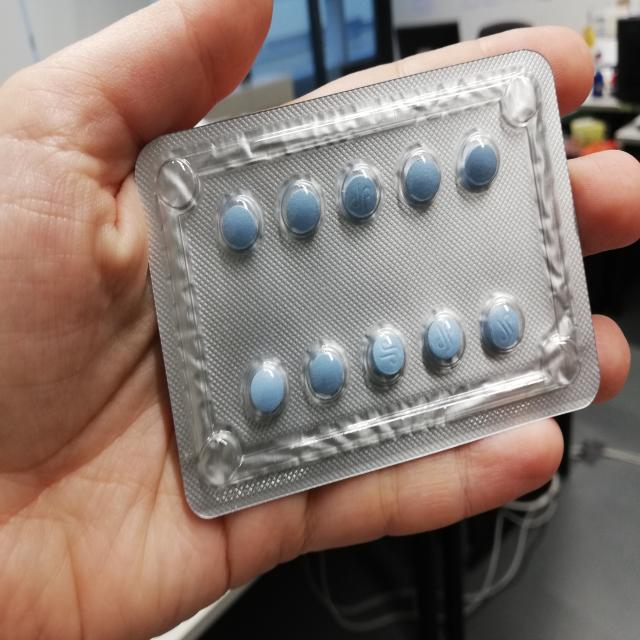Pill: (300, 333, 357, 411), (453, 122, 501, 208), (392, 141, 444, 220), (236, 354, 290, 426), (478, 284, 529, 359), (215, 189, 264, 265), (335, 157, 382, 235), (361, 320, 410, 394), (418, 304, 463, 372), (276, 176, 320, 244)
